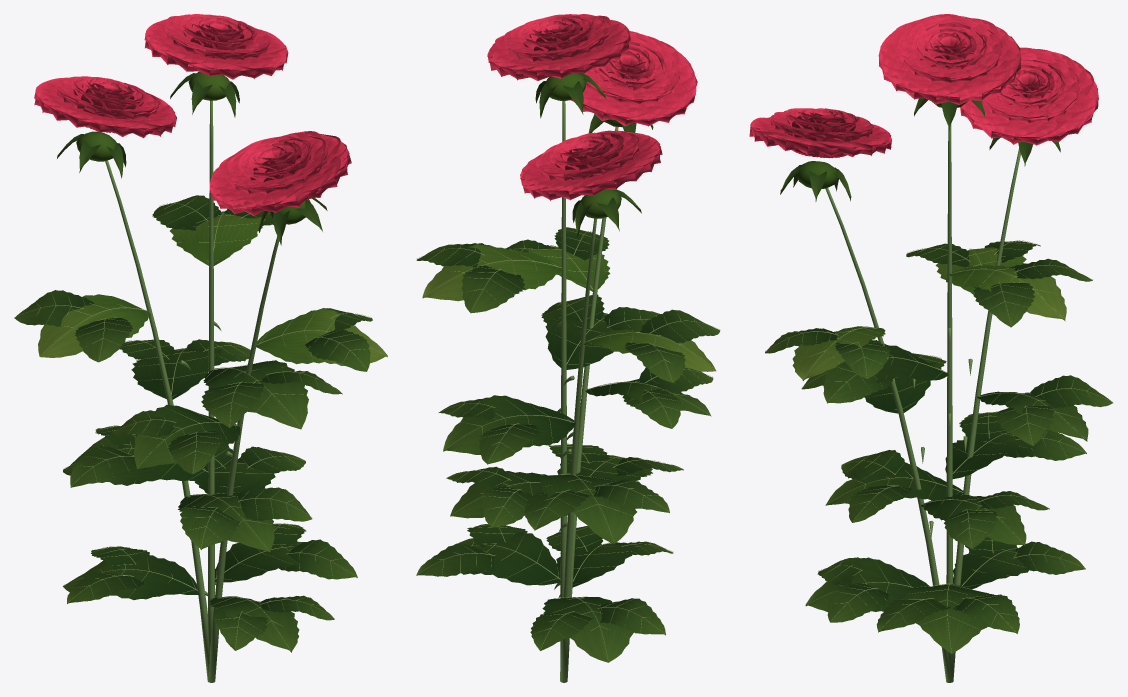
The model's file is rose-10.glb.
3 renders of one model, left to right at view 1: azimuth 30°, elevation 25°; view 2: azimuth 150°, elevation 25°; view 3: azimuth 270°, elevation 25°, orthographic.
Parts seen in each view (by area): view 1: rose_stage_10_leaf_veins.018, rose_stage_10_rose_petal.018, rose_stage_10_young_leaf.018, rose_stage_10_stem_fibres.018, rose_stage_10_raised_midveins.018; view 2: rose_stage_10_leaf_veins.018, rose_stage_10_rose_petal.018, rose_stage_10_young_leaf.018, rose_stage_10_stem_fibres.018, rose_stage_10_raised_midveins.018; view 3: rose_stage_10_leaf_veins.018, rose_stage_10_rose_petal.018, rose_stage_10_stem_fibres.018, rose_stage_10_young_leaf.018, rose_stage_10_raised_midveins.018.
Boxes of the visible parts, box(x1,y1,x2,y2) form: rose_stage_10_leaf_veins.018: box(14, 71, 372, 652); rose_stage_10_rose_petal.018: box(34, 14, 351, 215); rose_stage_10_young_leaf.018: box(38, 72, 387, 365); rose_stage_10_stem_fibres.018: box(105, 100, 279, 682); rose_stage_10_raised_midveins.018: box(15, 197, 385, 650); rose_stage_10_leaf_veins.018: box(416, 73, 720, 662); rose_stage_10_rose_petal.018: box(487, 14, 697, 200); rose_stage_10_young_leaf.018: box(422, 73, 715, 371); rose_stage_10_stem_fibres.018: box(554, 101, 618, 682); rose_stage_10_raised_midveins.018: box(417, 228, 719, 660); rose_stage_10_leaf_veins.018: box(765, 98, 1112, 653); rose_stage_10_rose_petal.018: box(749, 14, 1098, 158); rose_stage_10_stem_fibres.018: box(825, 124, 1020, 682); rose_stage_10_young_leaf.018: box(792, 101, 1066, 380); rose_stage_10_raised_midveins.018: box(765, 240, 1112, 653).
Bounding box in the file's own units: 0.3539 × 0.7585 × 0.3856.
5 materials, 3 textured.
